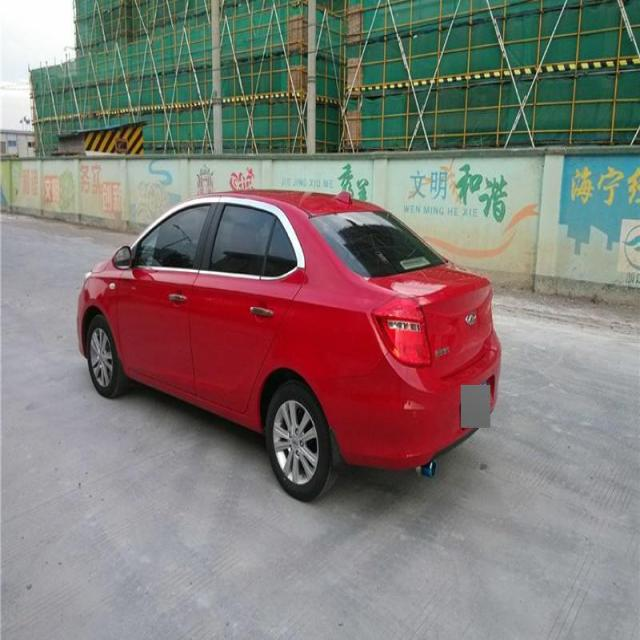back_glass: (304, 208, 449, 283)
back_left_side_light: (372, 294, 433, 372)
door: (184, 198, 304, 420)
front_left_side_door: (114, 195, 220, 402)
front_left_side_mirror: (110, 243, 134, 274)
rear_bumper: (327, 332, 502, 469)
wheel: (264, 376, 338, 500), (80, 307, 133, 398)
